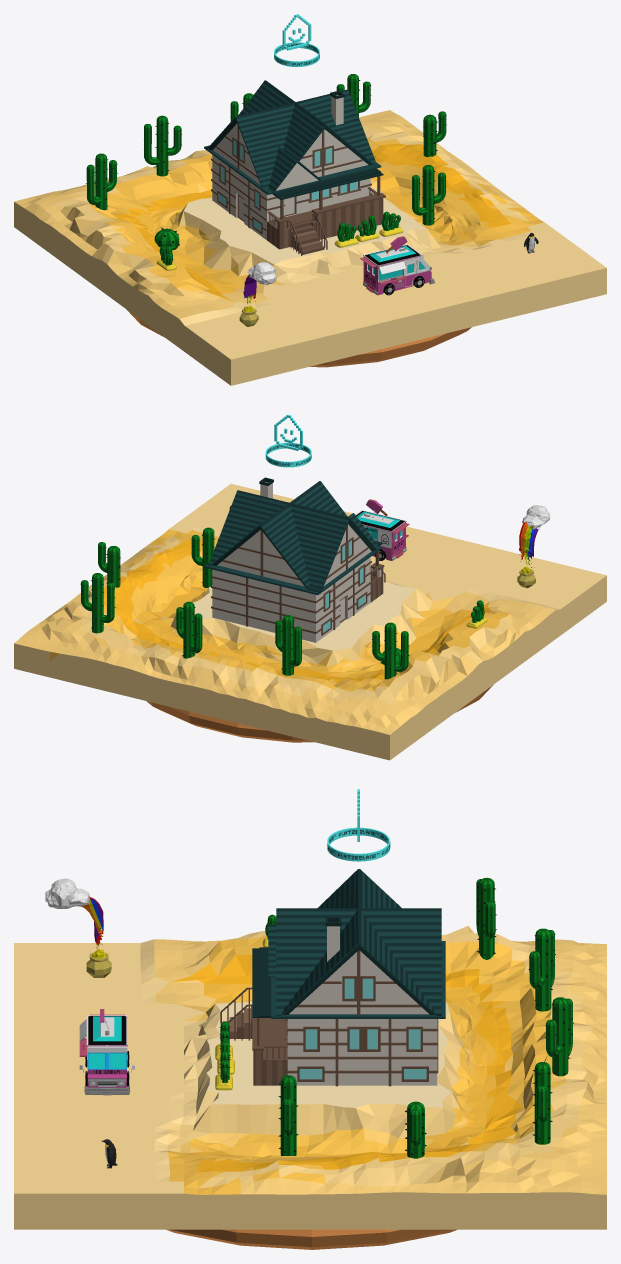
3 renders of one model, top to bottom at view 1: azimuth 30°, elevation 25°; view 2: azimuth 150°, elevation 25°; view 3: azimuth 270°, elevation 25°, orthographic. The views are drawn at different scales.
Parts seen in each view (by area): view 1: Cube.001, Cube.793, VEHICLES_ICE_CREAM_TRUCK, UNDERGROUND_PIZZA, Cylinder.044, Cylinder.037, Cylinder.045, OBJRANDOM_RAINBOW, TYPE_PREMIUM, Cylinder.038, Cylinder.042; view 2: Cube.001, Cube.793, VEHICLES_ICE_CREAM_TRUCK, UNDERGROUND_PIZZA, OBJRANDOM_RAINBOW, Cylinder.045, Cylinder.042, Cylinder.044, Cylinder.043, TYPE_PREMIUM, Cylinder.037, Cylinder.038; view 3: Cube.001, Cube.793, UNDERGROUND_PIZZA, VEHICLES_ICE_CREAM_TRUCK, OBJRANDOM_RAINBOW, Cylinder.044, Cylinder.043, Cylinder.045, Cylinder.042, Cylinder.037, TYPE_PREMIUM, Cylinder.038.
Part boxes in pixels (x1=…): Cube.001: x1=14, y1=110, x2=606, y2=385; Cube.793: x1=204, y1=80, x2=385, y2=255; VEHICLES_ICE_CREAM_TRUCK: x1=360, y1=236, x2=435, y2=295; UNDERGROUND_PIZZA: x1=126, y1=309, x2=471, y2=367; Cylinder.044: x1=144, y1=115, x2=181, y2=176; Cylinder.037: x1=411, y1=165, x2=446, y2=225; Cylinder.045: x1=86, y1=153, x2=117, y2=209; OBJRANDOM_RAINBOW: x1=239, y1=262, x2=276, y2=326; TYPE_PREMIUM: x1=274, y1=14, x2=319, y2=66; Cylinder.038: x1=423, y1=111, x2=446, y2=157; Cylinder.042: x1=336, y1=74, x2=371, y2=116; Cube.001: x1=14, y1=483, x2=606, y2=760; Cube.793: x1=204, y1=477, x2=385, y2=642; VEHICLES_ICE_CREAM_TRUCK: x1=355, y1=499, x2=409, y2=560; UNDERGROUND_PIZZA: x1=146, y1=685, x2=492, y2=742; OBJRANDOM_RAINBOW: x1=517, y1=505, x2=550, y2=588; Cylinder.045: x1=372, y1=622, x2=409, y2=679; Cylinder.042: x1=80, y1=573, x2=115, y2=633; Cylinder.044: x1=275, y1=615, x2=301, y2=675; Cylinder.043: x1=176, y1=601, x2=202, y2=658; TYPE_PREMIUM: x1=265, y1=414, x2=311, y2=467; Cylinder.037: x1=191, y1=527, x2=218, y2=587; Cylinder.038: x1=98, y1=542, x2=120, y2=587; Cube.001: x1=14, y1=926, x2=606, y2=1229; Cube.793: x1=220, y1=869, x2=445, y2=1086; UNDERGROUND_PIZZA: x1=166, y1=1229, x2=457, y2=1249; VEHICLES_ICE_CREAM_TRUCK: x1=79, y1=1009, x2=134, y2=1095; OBJRANDOM_RAINBOW: x1=45, y1=878, x2=111, y2=977; Cylinder.044: x1=528, y1=928, x2=555, y2=1011; Cylinder.043: x1=545, y1=997, x2=573, y2=1076; Cylinder.045: x1=476, y1=877, x2=496, y2=959; Cylinder.042: x1=532, y1=1062, x2=552, y2=1144; Cylinder.037: x1=278, y1=1075, x2=298, y2=1155; TYPE_PREMIUM: x1=327, y1=789, x2=390, y2=861; Cylinder.038: x1=405, y1=1101, x2=426, y2=1158.
Bounding box in the file's own units: 4002 × 2649 × 4001.
Materials: 45 (4 with a texture image).
